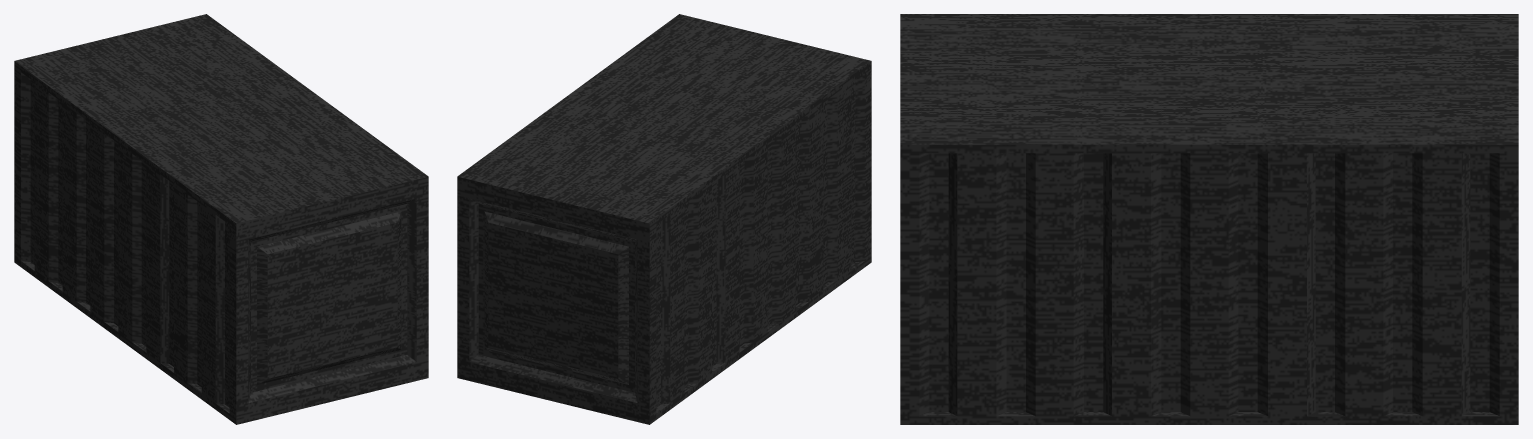
The model's file is Container.fbx.
The picture shows the model from 3 angles, left to right: view 1: azimuth 30°, elevation 25°; view 2: azimuth 150°, elevation 25°; view 3: azimuth 270°, elevation 25°; orthographic projection. The views are drawn at different scales.
Parts seen in each view (by area): view 1: Cube.021; view 2: Cube.021; view 3: Cube.021.
Part boxes in pixels (x1=…): Cube.021: x1=14, y1=14, x2=428, y2=424; Cube.021: x1=457, y1=14, x2=871, y2=424; Cube.021: x1=900, y1=14, x2=1518, y2=424.
Size of the model in its own units: 400 by 400 by 800.
